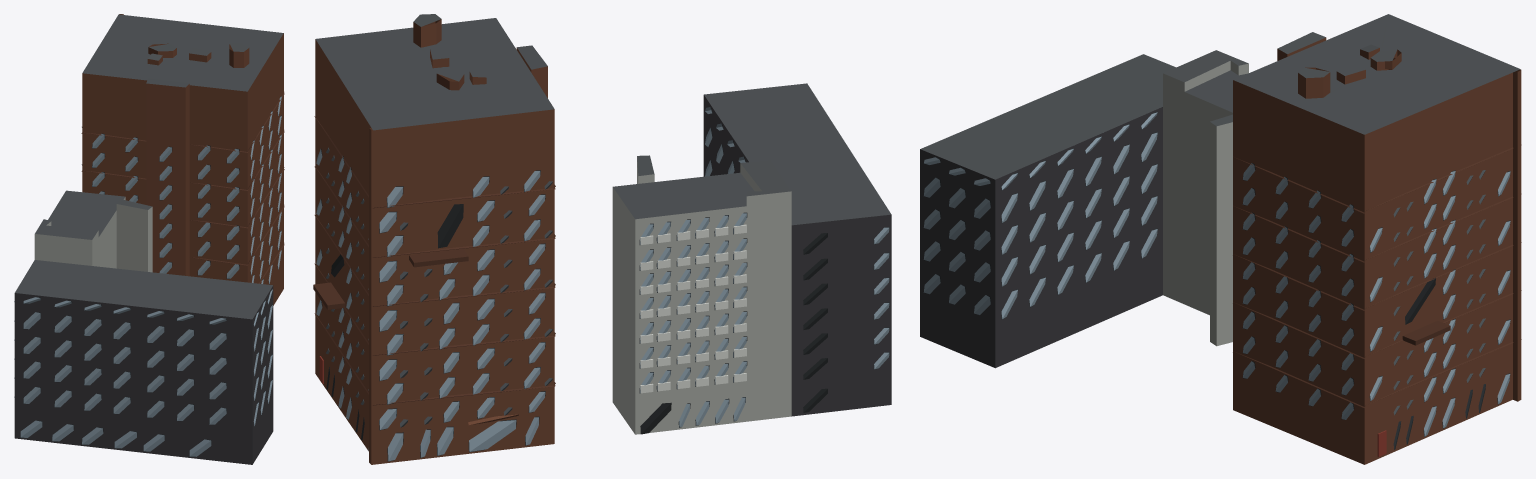
Rendered from oostenburgermiddenstraat-228.lod1.glb.
The picture shows the model from 3 angles, left to right: view 1: azimuth 30°, elevation 25°; view 2: azimuth 150°, elevation 25°; view 3: azimuth 270°, elevation 25°; orthographic projection. The views are drawn at different scales.
Visible parts, largest first — view 1: oostenburgermiddenstraat-228; view 2: oostenburgermiddenstraat-228; view 3: oostenburgermiddenstraat-228.
Part boxes in pixels (x1,y1,x2,y2): oostenburgermiddenstraat-228: (14, 14, 284, 464); oostenburgermiddenstraat-228: (313, 14, 891, 464); oostenburgermiddenstraat-228: (920, 14, 1521, 464).
Size of the model in its own units: 58.73 by 42.97 by 66.76.
